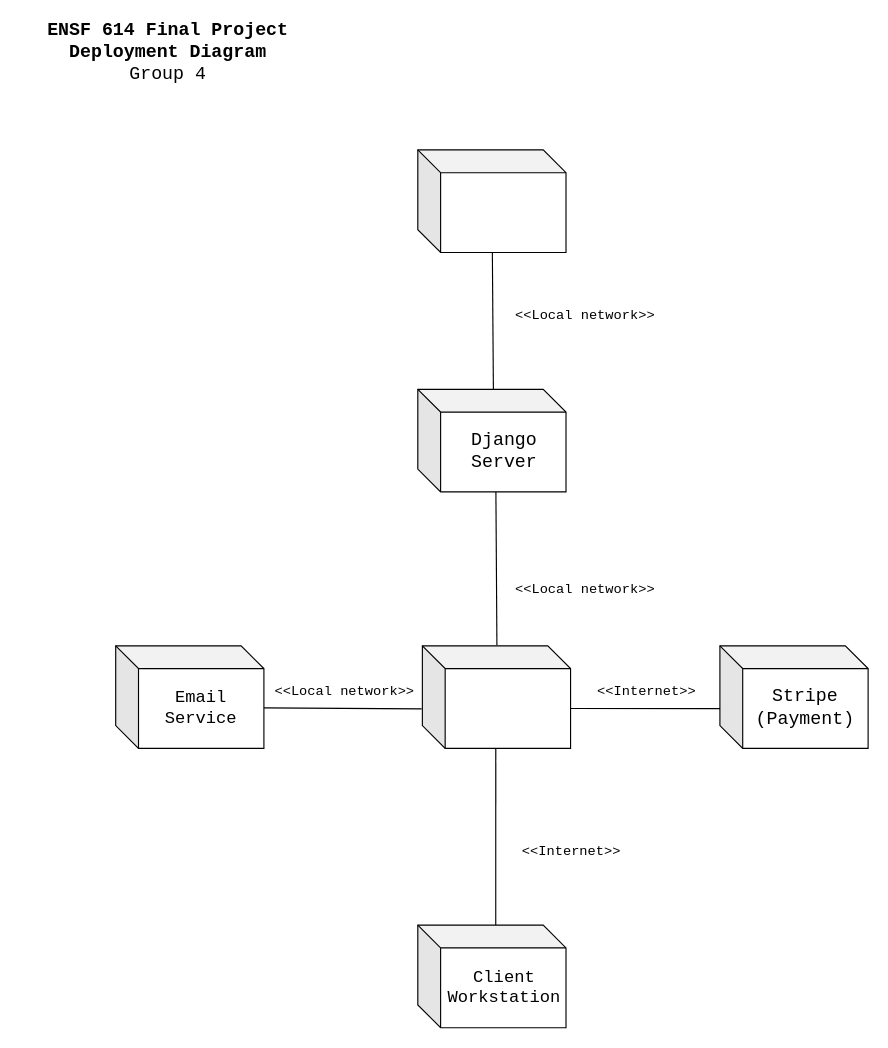
This 888x1048 diagram has some shape labels left out. The shapes that lost their labels are listed below. From the top down, each one's centre as x and y in pixels, then its label:
At (491,201): "MySQL Server".
At (496,696): "React Server".
